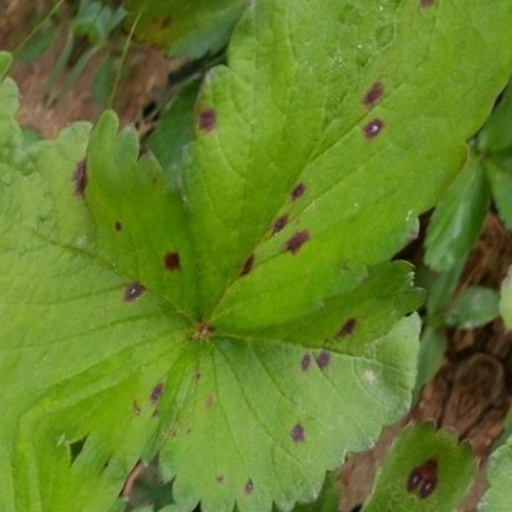Leaf Spot: (122, 0, 396, 348), (0, 196, 268, 511), (243, 186, 464, 511), (462, 309, 511, 511), (481, 100, 511, 203)
